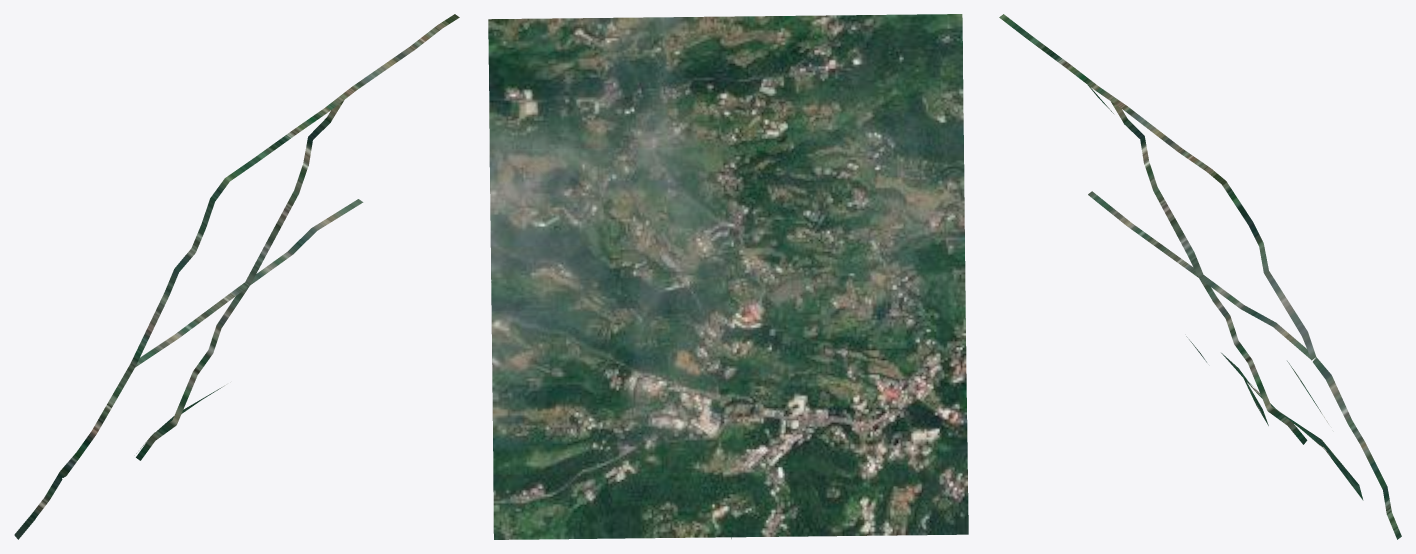
3 views of the same model, side by side, from view 1: azimuth 30°, elevation 25°; view 2: azimuth 150°, elevation 25°; view 3: azimuth 270°, elevation 25° (orthographic). The views are drawn at different scales.
Size of the model in its own units: 2535 by 2246 by 2011.
Materials: 1 (1 with a texture image).
